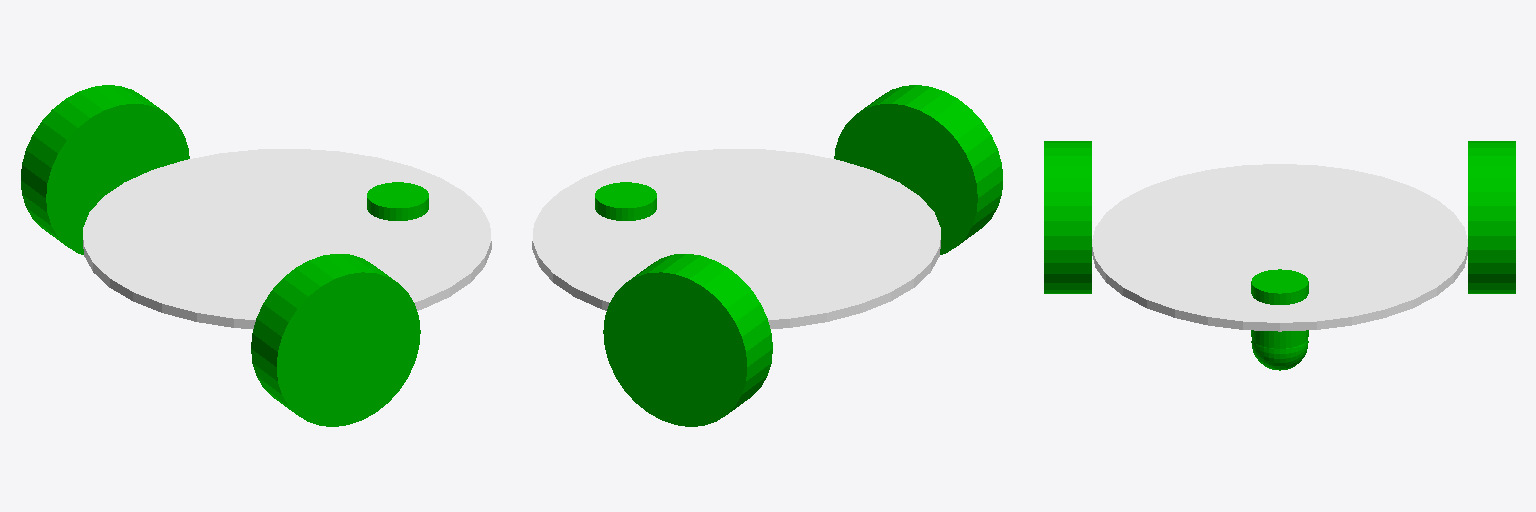
The robot description file, URDF, robot "simbha_model":
<?xml version="1.0" ?>

<robot name="simbha_model" xmlns:xacro="http://www.ros.org/wiki/xacro">
  <!-- Wheels -->
  <!-- in kg-->
  <!-- Defining the colors used in this robot -->
  
  <material name="Black">
    <color rgba="0.0 0.0 0.0 1.0"/>
  </material>
  <material name="Red">
    <color rgba="0.8 0.0 0.0 1.0"/>
  </material>
  <material name="Green">
    <color rgba="0.0 0.8 0.0 1.0"/>
  </material>
  <material name="White">
    <color rgba="1.0 1.0 1.0 1.0"/>
  </material>
  <material name="Blue">
    <color rgba="0.0 0.0 0.8 1.0"/>
  </material>
   --&gt; 

  <!-- BASE-LINK -->
  <!--Actual body/chassis of the robot-->

  <link name="base_link">
    <inertial>
      <mass value="0.1"/>
      <origin xyz="0 0 0.05"/>
      <!--The 3x3 rotational inertia matrix. -->
       <inertia ixx="0.0000282916666667" ixy="0" ixz="0" iyy="0.0000282916666667" iyz="0" izz="0.00005625"/>
    </inertial>
    <visual>
      <origin rpy="0 0 0" xyz="0 0 0"/>
      <geometry>
        <cylinder length="0.004" radius="0.08"/>
      </geometry>
      <material name="White"/>
    </visual>
    <collision>
      <origin rpy="0 0 0 " xyz="0 0 0"/>
      <geometry>
        <cylinder length="0.005" radius="0.08"/>
      </geometry>
    </collision>
  </link>
  <gazebo reference="base_link">
    <material>Gazebo/White</material>
    <turnGravityOff>false</turnGravityOff>
  </gazebo>

  <!-- BASE-upperlink -->

<!-- <link name="base_upperlink">
    <inertial>
      <mass value="0.01"/>
      <origin xyz="0 0 0"/>
      <inertia ixx="0.0001" ixy="0" ixz="0" iyy="0.0001" iyz="0" izz="0.0001"/>
    </inertial>
    <visual>
      <origin rpy="0 0 0" xyz="0 0 0"/>
      <geometry>
        <cylinder length="0.004" radius="0.12"/>
      </geometry>
  <material name="White"/>  
  </visual>
    <collision>
      <origin rpy="0 0 0 " xyz="0 0 0"/>
      <geometry>
        <cylinder length="0.005" radius="0.08"/>
      </geometry>
   <material name="White"/>
    </collision>
  </link>
  <gazebo reference="base_upperlink">
  
    <turnGravityOff>false</turnGravityOff>
  </gazebo>
  <joint name="base_upperlink_joint" type="fixed">
    <origin rpy="0 0 0" xyz="0 0 0.054"/>
    <parent link="base_link"/>
    <child link="base_upperlink"/>
  </joint>
 -->



  <!--fb : front, back ; lr: left, right -->
  <link name="right_wheel">
    <visual>
      <origin rpy="1.57079632679 0  0 " xyz="0 0 0"/>
      <geometry>
        <cylinder length="0.02" radius="0.0325"/>
      </geometry>
      <material name="Green"/>
    </visual>
    <collision>
      <origin rpy="1.57079632679 0 0 " xyz="0 0 0"/>
      <geometry>
        <cylinder length="0.005" radius="0.025"/>
      </geometry>
    </collision>
    <inertial>
      <mass value="0.5"/>
      <origin xyz="0 0 0"/>
      <inertia ixx="0.0001" ixy="0" ixz="0" iyy="0.0001" iyz="0" izz="0.0001"/>
    </inertial>
  </link>
  <gazebo reference="right_wheel">
    <mu1 value="1.0"/>
    <mu2 value="1.0"/>
    <kp value="100000.0"/>
    <kd value="1.0"/>
    <fdir1 value="1 0 0"/>
    <material>Gazebo/Green</material>
    <turnGravityOff>false</turnGravityOff>
  </gazebo>
  <joint name="right_wheel_joint" type="continuous">
    <parent link="base_link"/>
    <child link="right_wheel"/>
      <origin rpy="0 0 0" xyz="-0.03 -0.09 0"/>
    <axis rpy="0 0 0" xyz="0 1 0"/>
    <limit effort="100" velocity="100"/>
    <joint_properties damping="0.0" friction="0.0"/>
  </joint>
  <!-- Transmission is important to link the joints and the controller -->


  <transmission name="right_wheel_joint_trans">
    <type>transmission_interface/SimpleTransmission</type>
    <joint name="right_wheel_joint"/>
    <actuator name="right_wheel_joint_motor">
      <hardwareInterface>EffortJointInterface</hardwareInterface>
      <mechanicalReduction>1</mechanicalReduction>
    </actuator>
  </transmission>
  
  <!--left motor -->
  <link name="left_wheel">
    <visual>
      <origin rpy="1.57079632679 0  0 " xyz="0 0 0"/>
      <geometry>
        <cylinder length="0.02" radius="0.0325"/>
      </geometry>
      <material name="Green"/>
    </visual>
    <collision>
      <origin rpy="1.57079632679 0 0 " xyz="0 0 0"/>
      <geometry>
        <cylinder length="0.005" radius="0.025"/>
      </geometry>
    </collision>
    <inertial>
      <mass value="0.5"/>
      <origin xyz="0 0 0"/>
      <inertia ixx="0.0001" ixy="0" ixz="0" iyy="0.0001" iyz="0" izz="0.0001"/>
    </inertial>
  </link>
  <gazebo reference="left_wheel">
    <mu1 value="1.0"/>
    <mu2 value="1.0"/>
    <kp value="100000.0"/>
    <kd value="1.0"/>
    <fdir1 value="1 0 0"/>
    <material>Gazebo/Green</material>
    <turnGravityOff>false</turnGravityOff>
  </gazebo>
  <joint name="left_wheel_joint" type="continuous">
    <parent link="base_link"/>
    <child link="left_wheel"/>
    <origin rpy="0 0 0" xyz="-0.03 0.09 0"/>
    <axis rpy="0  0" xyz="0 1 0"/>
    <limit effort="100" velocity="100"/>
    <joint_properties damping="0.0" friction="0.0"/>
  </joint>

  <!-- Transmission is important to link the joints and the controller -->
  <transmission name="left_wheel_joint_trans">
    <type>transmission_interface/SimpleTransmission</type>
    <joint name="left_wheel_joint"/>
    <actuator name="left_wheel_joint_motor">
      <hardwareInterface>EffortJointInterface</hardwareInterface>
      <mechanicalReduction>1</mechanicalReduction>
    </actuator>
  </transmission>

  <!--Caster front  -->

  <link name="caster_front_link">
    <visual>
      <origin rpy="1.57079632679 0 0" xyz="0 0 0"/>
      <geometry>
        <sphere radius="0.01214"/>
      </geometry>
      <material name="Green"/>
    </visual>
    <collision>
      <geometry>
        <sphere radius="0.007"/>
      </geometry>
      <origin rpy="1.57079632679 0 0" xyz="0 0 0"/>
    </collision>
    <inertial>
      <mass value="0.5"/>
      <origin xyz="0 0 0"/>
      <inertia ixx="0.0000001" ixy="0.0" ixz="0.0" iyy="0.0000001" iyz="0.0" izz="0.0000001"/>
    </inertial>
  </link>
  <joint name="caster_front_joint" type="continuous">
    <parent link="caster_link"/>
    <child link="caster_front_link"/>
    <origin rpy="0 0 0" xyz="0.05 0 -0.01545"/>
    <axis rpy="0 0 0" xyz="0 1 0"/>
  </joint>
  <gazebo reference="caster_front_link">
<!--     <mu1 value="1.0"/>
    <mu2 value="1.0"/>
    <kp value="100000.0"/>
    <kd value="1.0"/>
    <fdir1 value="1 1 0"/> -->
    <turnGravityOff>false</turnGravityOff>
    <material>Gazebo/Green</material>
  </gazebo>
  
<link name="caster_link">
    <visual>
      <origin rpy="0 0  0 " xyz="0.05 0 0"/>
      <geometry>
        <cylinder length="0.02586" radius="0.01214"/>
      </geometry>
      <material name="Green"/>
    </visual>
    <collision>
      <origin rpy="0 0 0 " xyz="0.05 0 0"/>
      <geometry>
        <cylinder length="0.02586" radius="0.005"/>
      </geometry>
    </collision>
    <inertial>
      <mass value="0.05"/>
      <origin xyz="0.05 0 0"/>
      <inertia ixx="0.00001" ixy="0" ixz="0" iyy="0.00001" iyz="0" izz="0.00001"/>
    </inertial>
  </link>
  
<joint name="caster_front_joint_base" type="fixed">
    <parent link="base_link"/>
    <child link="caster_link"/>
    <origin rpy="0 0 0" xyz="0 0.0 -0.00545"/>
  </joint>
  <gazebo reference="caster_link">
    <turnGravityOff>false</turnGravityOff>
    <material>Gazebo/Green</material>
  </gazebo>
  
  



  <!-- camera -->
  <!--
<joint name="left_camera" type="fixed">
    <axis xyz="1 0 0"/>      
    <origin rpy="0 .02 0" xyz="0.05 0.01 0.015"/>
    <parent link="base_link"/>
    <child link="left_camera"/>
  </joint>

<link name="left_camera">
  <inertial>
    <mass value="0.001"/>
    <origin rpy="0 0 0" xyz="0.05 0 0"/>
    <inertia ixx="0.001" ixy="0" ixz="0" iyy="0.001" iyz="0" izz="0.001"/>
  </inertial>
  <visual>
    <origin rpy="0 0 0" xyz="0 0 0"/>
    <geometry>
      <box size="0.03 0.03 0.03"/>
    </geometry>
    <material name="Red"/>  
  </visual>
  <collision>
    <origin rpy="0 0 0" xyz="0 0 0"/>
    <geometry>
      <box size=".03 .03 .03"/>
    </geometry>
  </collision>
</link>

  <gazebo reference="left_camera">
   <material>Gazebo/Red</material>
    <turnGravityOff>false</turnGravityOff>
   
        <sensor name='left_camera' type='camera'>
          <camera name='__default__'>
            <horizontal_fov>1.047</horizontal_fov>
            <image>
              <width>640</width>
              <height>480</height>
            </image>
            <clip>
              <near>0.1</near>
              <far>100</far>
            </clip>
          </camera>

          <plugin name='left_camera' filename='libgazebo_ros_camera.so'>
            
            <alwaysOn>true</alwaysOn>
            <updateRate>60</updateRate>
            <imageTopicName>/stereo/left/image_raw</imageTopicName>
            <cameraInfoTopicName>stereo/left/camera_info</cameraInfoTopicName>
            <frameName>main_camera</frameName>
          </plugin>
        <pose>-3 0 0 0 0 0</pose>
        </sensor>
  </gazebo>
<joint name="right_camera" type="fixed">
    <axis xyz="1 0 0"/>      
    <origin rpy="0 .02 0" xyz="0.05 -0.01 0.015"/>
    <parent link="base_link"/>
    <child link="right_camera"/>
  </joint>

<link name="right_camera">
  <inertial>
    <mass value="0.001"/>
    <origin rpy="0 0 0" xyz="0.05 0 0"/>
    <inertia ixx="0.001" ixy="0" ixz="0" iyy="0.001" iyz="0" izz="0.001"/>
  </inertial>
  <visual>
    <origin rpy="0 0 0" xyz="0 0 0"/>
    <geometry>
      <box size="0.03 0.03 0.03"/>
    </geometry>
    <material name="Red"/>  
  </visual>
  <collision>
    <origin rpy="0 0 0" xyz="0 0 0"/>
    <geometry>
      <box size=".03 .03 .03"/>
    </geometry>
  </collision>
</link>

  <gazebo reference="right_camera">
   <material>Gazebo/Red</material>
    <turnGravityOff>false</turnGravityOff>
   
        <sensor name='right_camera' type='camera'>
          <camera name='__default__'>
            <horizontal_fov>1.047</horizontal_fov>
            <image>
              <width>640</width>
              <height>480</height>
            </image>
            <clip>
              <near>0.1</near>
              <far>100</far>
            </clip>
          </camera>

          <plugin name='right_camera' filename='libgazebo_ros_camera.so'>
            
            <alwaysOn>true</alwaysOn>
            <updateRate>60</updateRate>
            <imageTopicName>stereo/right/image_raw</imageTopicName>
            <cameraInfoTopicName>stereo/right/camera_info</cameraInfoTopicName>
            <frameName>main_camera</frameName>
          </plugin>
        <pose>-3 0 0 0 0 0</pose>
        </sensor>
  </gazebo>
-->
<!--   <link name="support_1">
    <visual>
      <origin rpy="0 0 0" xyz="0 0 0"/>
      <geometry>
       <cylinder length="0.05" radius="0.01"/>
      </geometry>
   <material name="Black"/>
    </visual>

  </link> 

  <joint name="support_joint1" type="fixed">
    <origin rpy="0 0 0" xyz="0.04 -0.07 0.027"/>
    <parent link="base_link"/>
    <child link="support_1"/>
  </joint>
  
  <gazebo reference="support_1">
    <turnGravityOff>false</turnGravityOff>
    <material>Gazebo/Black</material>
  </gazebo>

<link name="support_2">
    <visual>
      <origin rpy="0 0 0" xyz="0 0 0"/>
      <geometry>
       <cylinder length="0.05" radius="0.01"/>
      </geometry>
   <material name="Black"/>
    </visual>

  </link> 

  <joint name="support_joint2" type="fixed">
    <origin rpy="0 0 0" xyz="0.04 0.07 0.027"/>
    <parent link="base_link"/>
    <child link="support_2"/>
  </joint>
  <gazebo reference="support_2">
    <turnGravityOff>false</turnGravityOff>
    <material>Gazebo/Black</material>
  </gazebo>

<link name="support_3">
    <visual>
      <origin rpy="0 0 0" xyz="0 0 0"/>
      <geometry>
       <cylinder length="0.05" radius="0.01"/>
      </geometry>
   <material name="Black"/>
    </visual>

  </link> 

  <joint name="support_joint3" type="fixed">
    <origin rpy="0 0 0" xyz="-0.06 -0.07 0.027"/>
    <parent link="base_link"/>
    <child link="support_3"/>
  </joint>

  <gazebo reference="support_3">
    <turnGravityOff>false</turnGravityOff>
    <material>Gazebo/Black</material>
  </gazebo>

<link name="support_4">
    <visual>
      <origin rpy="0 0 0" xyz="0 0 0"/>
      <geometry>
       <cylinder length="0.05" radius="0.01"/>
      </geometry>
   <material name="Black"/>
    </visual>

  </link> 

  <joint name="support_joint4" type="fixed">
    <origin rpy="0 0 0" xyz="-0.06 0.07 0.027"/>
    <parent link="base_link"/>
    <child link="support_4"/>
  </joint>

  <gazebo reference="support_4">
    <turnGravityOff>false</turnGravityOff>
    <material>Gazebo/Black</material>
  </gazebo> -->

<gazebo>
    <plugin filename="libgazebo_ros_diff_drive.so" name="differential_drive_controller_front">
      <rosDebugLevel>Debug</rosDebugLevel>
      <publishWheelTF>True</publishWheelTF>
      <publishTf>1</publishTf>
      <publishWheelJointState>true</publishWheelJointState>
      <alwaysOn>true</alwaysOn>
      <updateRate>100.0</updateRate>
      <leftJoint>left_wheel_joint</leftJoint>
      <rightJoint>right_wheel_joint</rightJoint>
      <wheelSeparation>0.3</wheelSeparation>
      <wheelDiameter>0.065</wheelDiameter>
      <broadcastTF>1</broadcastTF>
      <wheelTorque>30</wheelTorque>
      <wheelAcceleration>1.8</wheelAcceleration>
      <commandTopic>cmd_vel</commandTopic>
      <odometryFrame>odom</odometryFrame>
      <odometryTopic>odom</odometryTopic>
      <robotBaseFrame>base_link</robotBaseFrame>
    </plugin>
  </gazebo>
 
</robot>

--- Facts derived from the render (not from the file) ---
The picture shows the robot from 3 angles, left to right: view 1: azimuth 30°, elevation 25°; view 2: azimuth 150°, elevation 25°; view 3: azimuth 270°, elevation 25°; orthographic projection.
Model simbha_model with 5 links and 4 joints (3 continuous, 1 fixed), rooted at base_link, posed every joint at zero.
Links seen in each view (by area): view 1: base_link, right_wheel, left_wheel, caster_link; view 2: base_link, left_wheel, right_wheel, caster_link; view 3: base_link, right_wheel, left_wheel, caster_link, caster_front_link.
Boxes of the visible links, x1,y1,x2,y2 form: base_link: (83,149,491,328); right_wheel: (251,254,420,426); left_wheel: (21,85,189,254); caster_link: (367,182,428,220); base_link: (532,149,940,328); left_wheel: (603,254,772,426); right_wheel: (834,85,1002,254); caster_link: (595,182,656,220); base_link: (1092,164,1467,331); right_wheel: (1044,141,1091,293); left_wheel: (1468,141,1515,293); caster_link: (1251,269,1308,348); caster_front_link: (1251,340,1308,370).
Bounding box of the posed robot: 0.16 × 0.2 × 0.0655 m (x, y, z).
Geometry: primitives only (box / cylinder / sphere), no mesh files.
